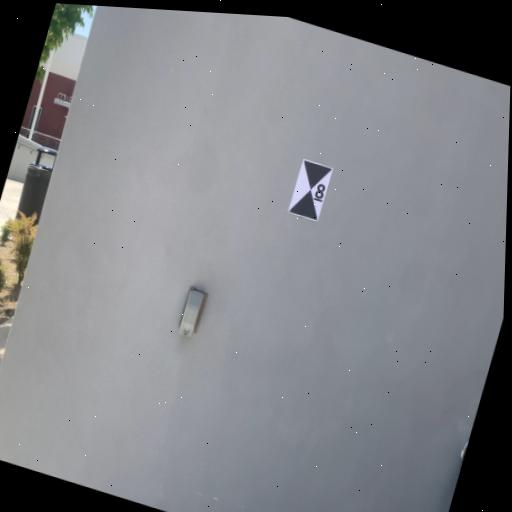target8: (287, 158, 333, 222)
